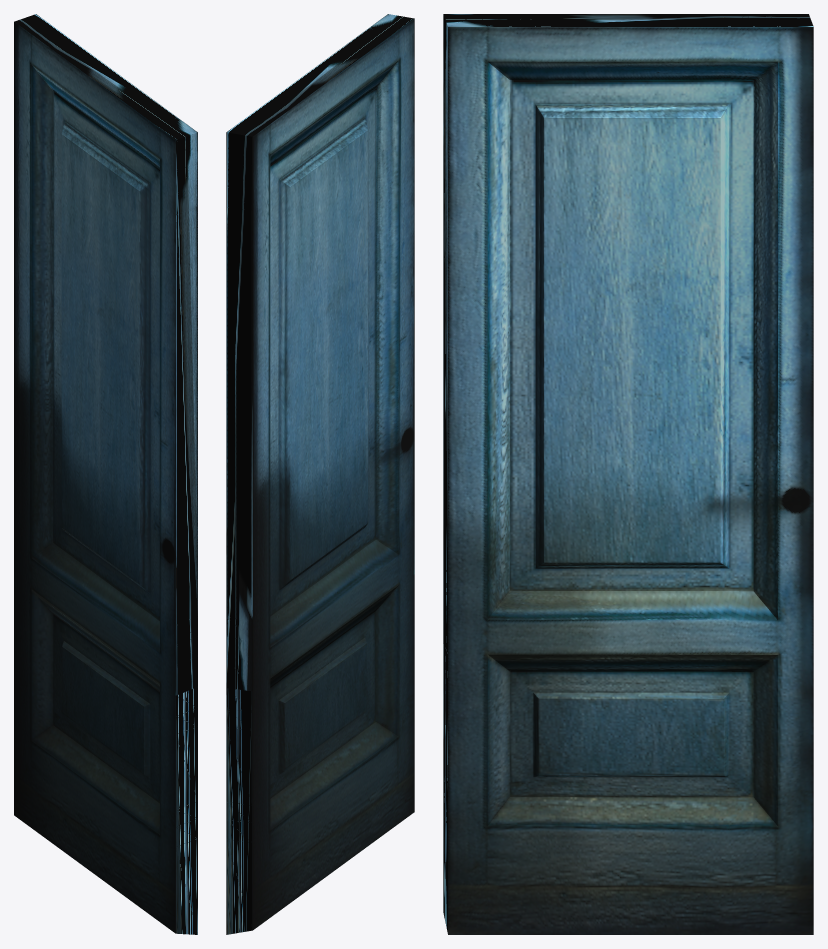
The model's file is Door2.obj.
3 views of the same model, side by side, from view 1: azimuth 30°, elevation 25°; view 2: azimuth 150°, elevation 25°; view 3: azimuth 270°, elevation 25° (orthographic). The views are drawn at different scales.
Visible parts, largest first — view 1: pasted__polySurface1 Door2; view 2: pasted__polySurface1 Door2; view 3: pasted__polySurface1 Door2.
Part boxes in pixels (x1,y1,x2,y2): pasted__polySurface1 Door2: (14, 14, 197, 934); pasted__polySurface1 Door2: (226, 14, 414, 934); pasted__polySurface1 Door2: (443, 14, 813, 934).
Size of the model in its own units: 0.0717 by 2.27 by 0.8385.
Materials: 1 (1 with a texture image).
